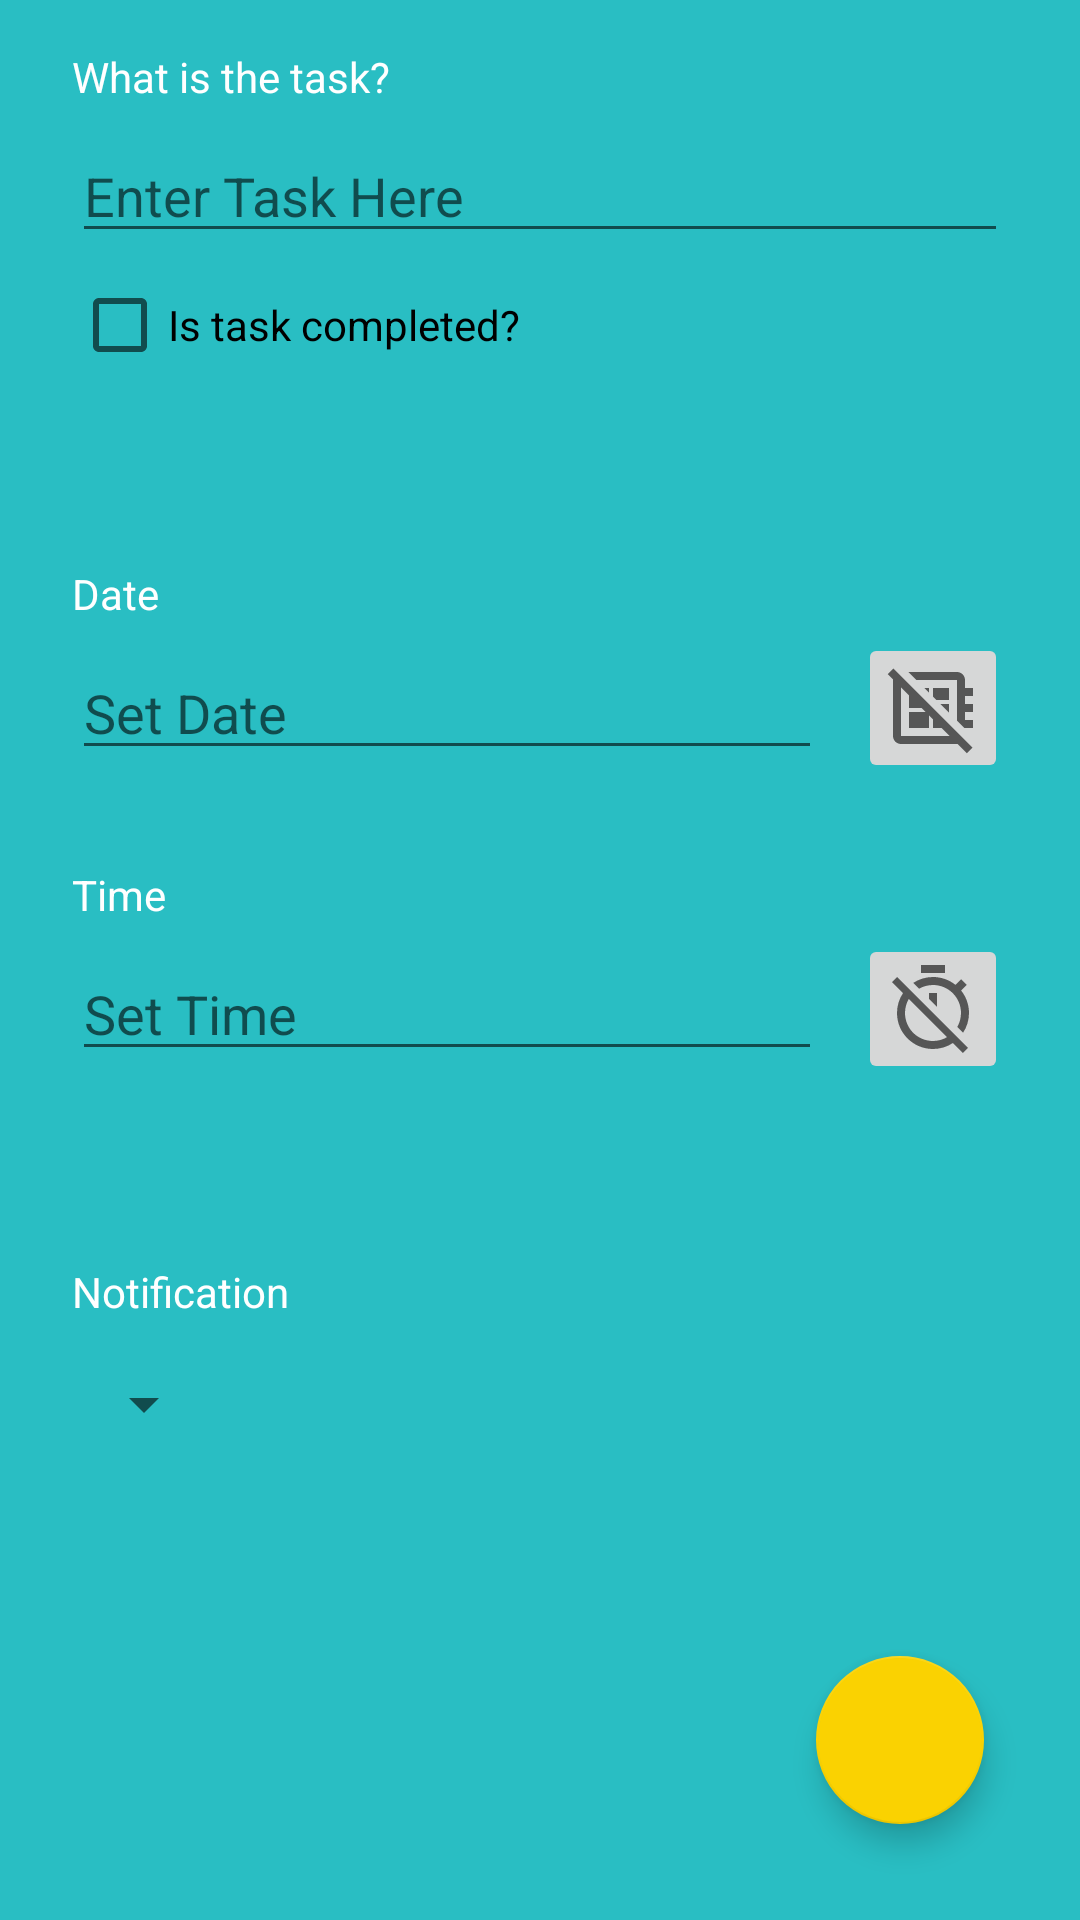

Icons on this 1080px x 1920px Android screen, each with its box as [x1,y1,x2,y2]:
developer board off: [870,651,996,765]
timer off: [870,952,996,1066]
